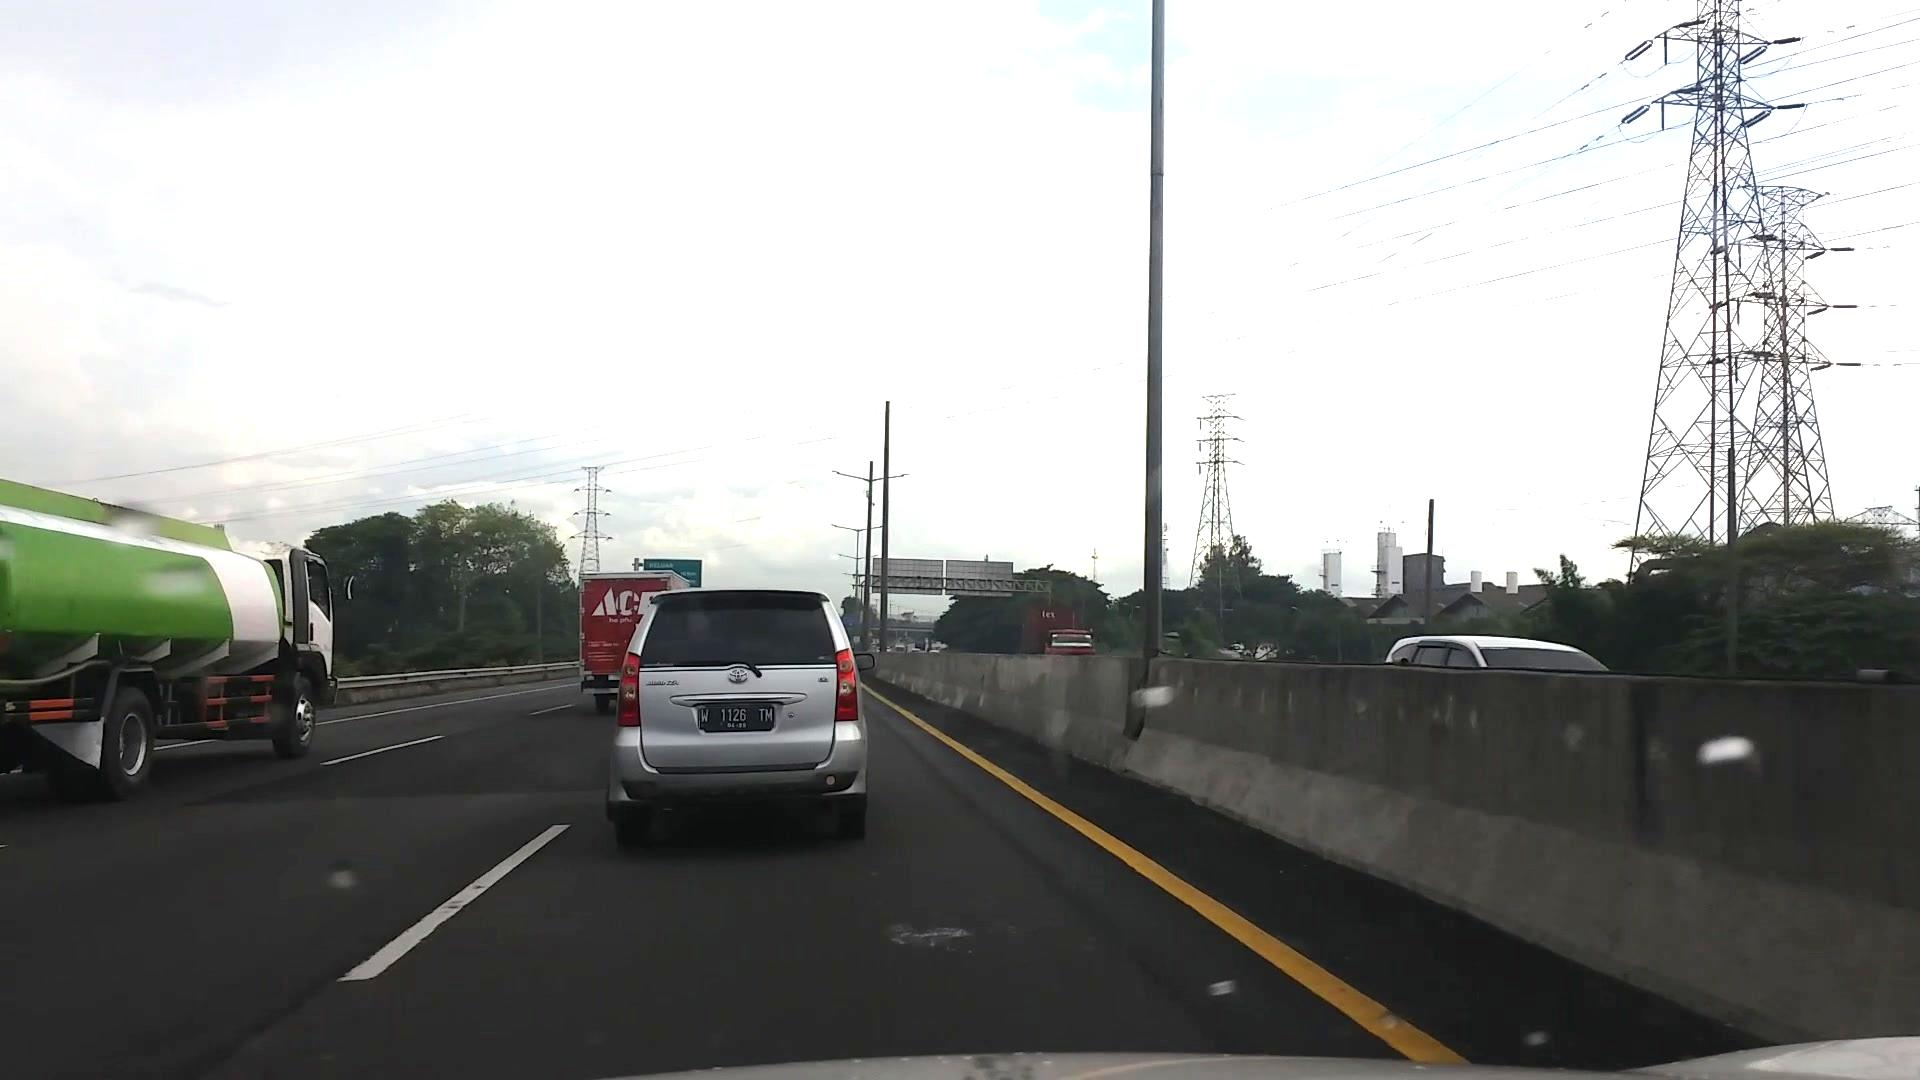plate_positive: (698, 705, 775, 732)
